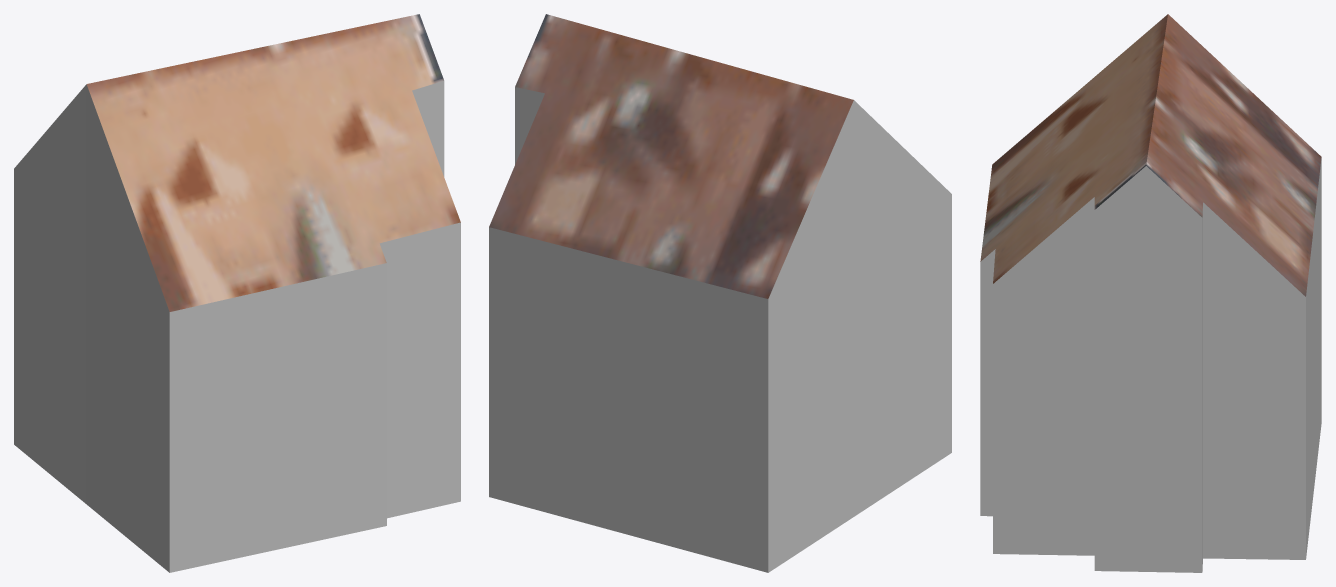
The model's file is DEBW_0010007Tvkw.gltf.
3 renders of one model, left to right at view 1: azimuth 30°, elevation 25°; view 2: azimuth 150°, elevation 25°; view 3: azimuth 270°, elevation 25°, orthographic. The views are drawn at different scales.
Parts seen in each view (by area): view 1: Z_UP; view 2: Z_UP; view 3: Z_UP.
Boxes of the visible parts, x1=… form: Z_UP: x1=14, y1=14, x2=460, y2=572; Z_UP: x1=489, y1=14, x2=951, y2=572; Z_UP: x1=980, y1=14, x2=1321, y2=572.
Bounding box in the file's own units: 16.84 × 20.39 × 15.52.
2 materials, 1 textured.
